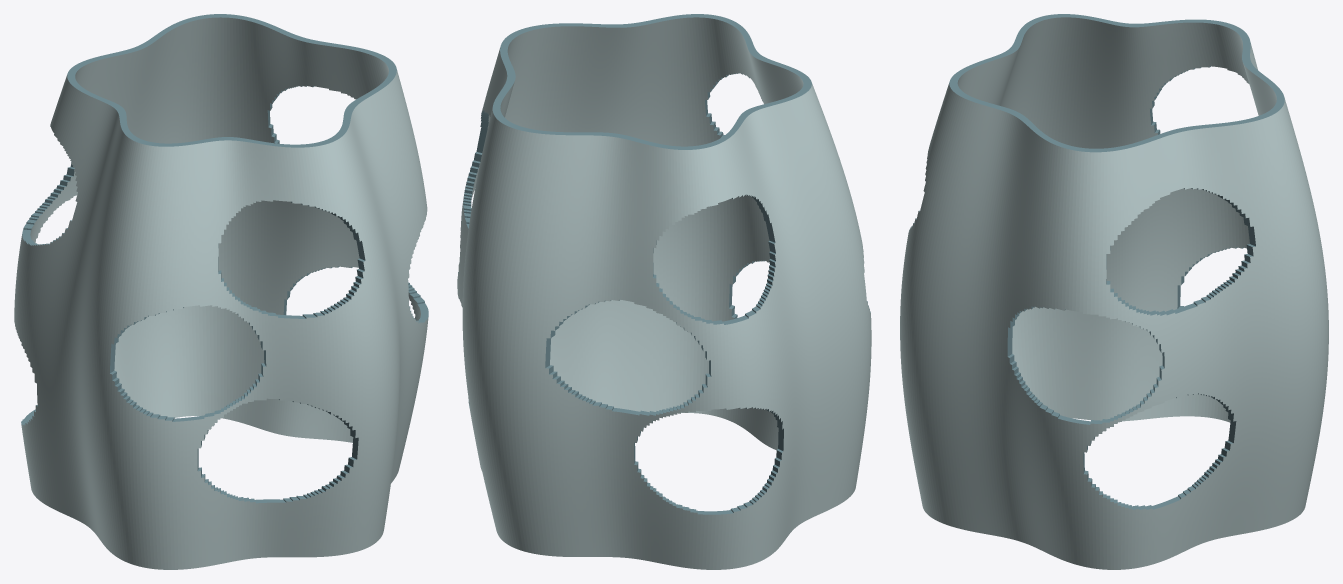
Rendered from parallax-oculi-shade.glb.
3 renders of one model, left to right at view 1: azimuth 30°, elevation 25°; view 2: azimuth 150°, elevation 25°; view 3: azimuth 270°, elevation 25°, orthographic. The views are drawn at different scales.
Parts seen in each view (by area): view 1: parallax-oculi-shade; view 2: parallax-oculi-shade; view 3: parallax-oculi-shade.
Boxes of the visible parts, x1=… form: parallax-oculi-shade: x1=14, y1=14, x2=428, y2=569; parallax-oculi-shade: x1=457, y1=14, x2=871, y2=569; parallax-oculi-shade: x1=900, y1=14, x2=1328, y2=569.
Bounding box in the file's own units: 158 × 172 × 162.
